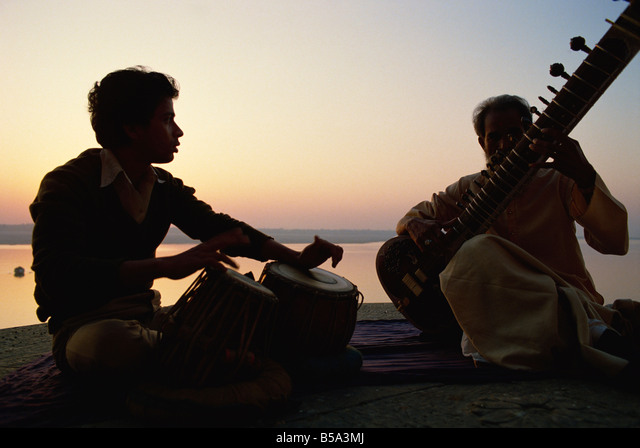tabla: (163, 270, 277, 378), (257, 262, 359, 380)
